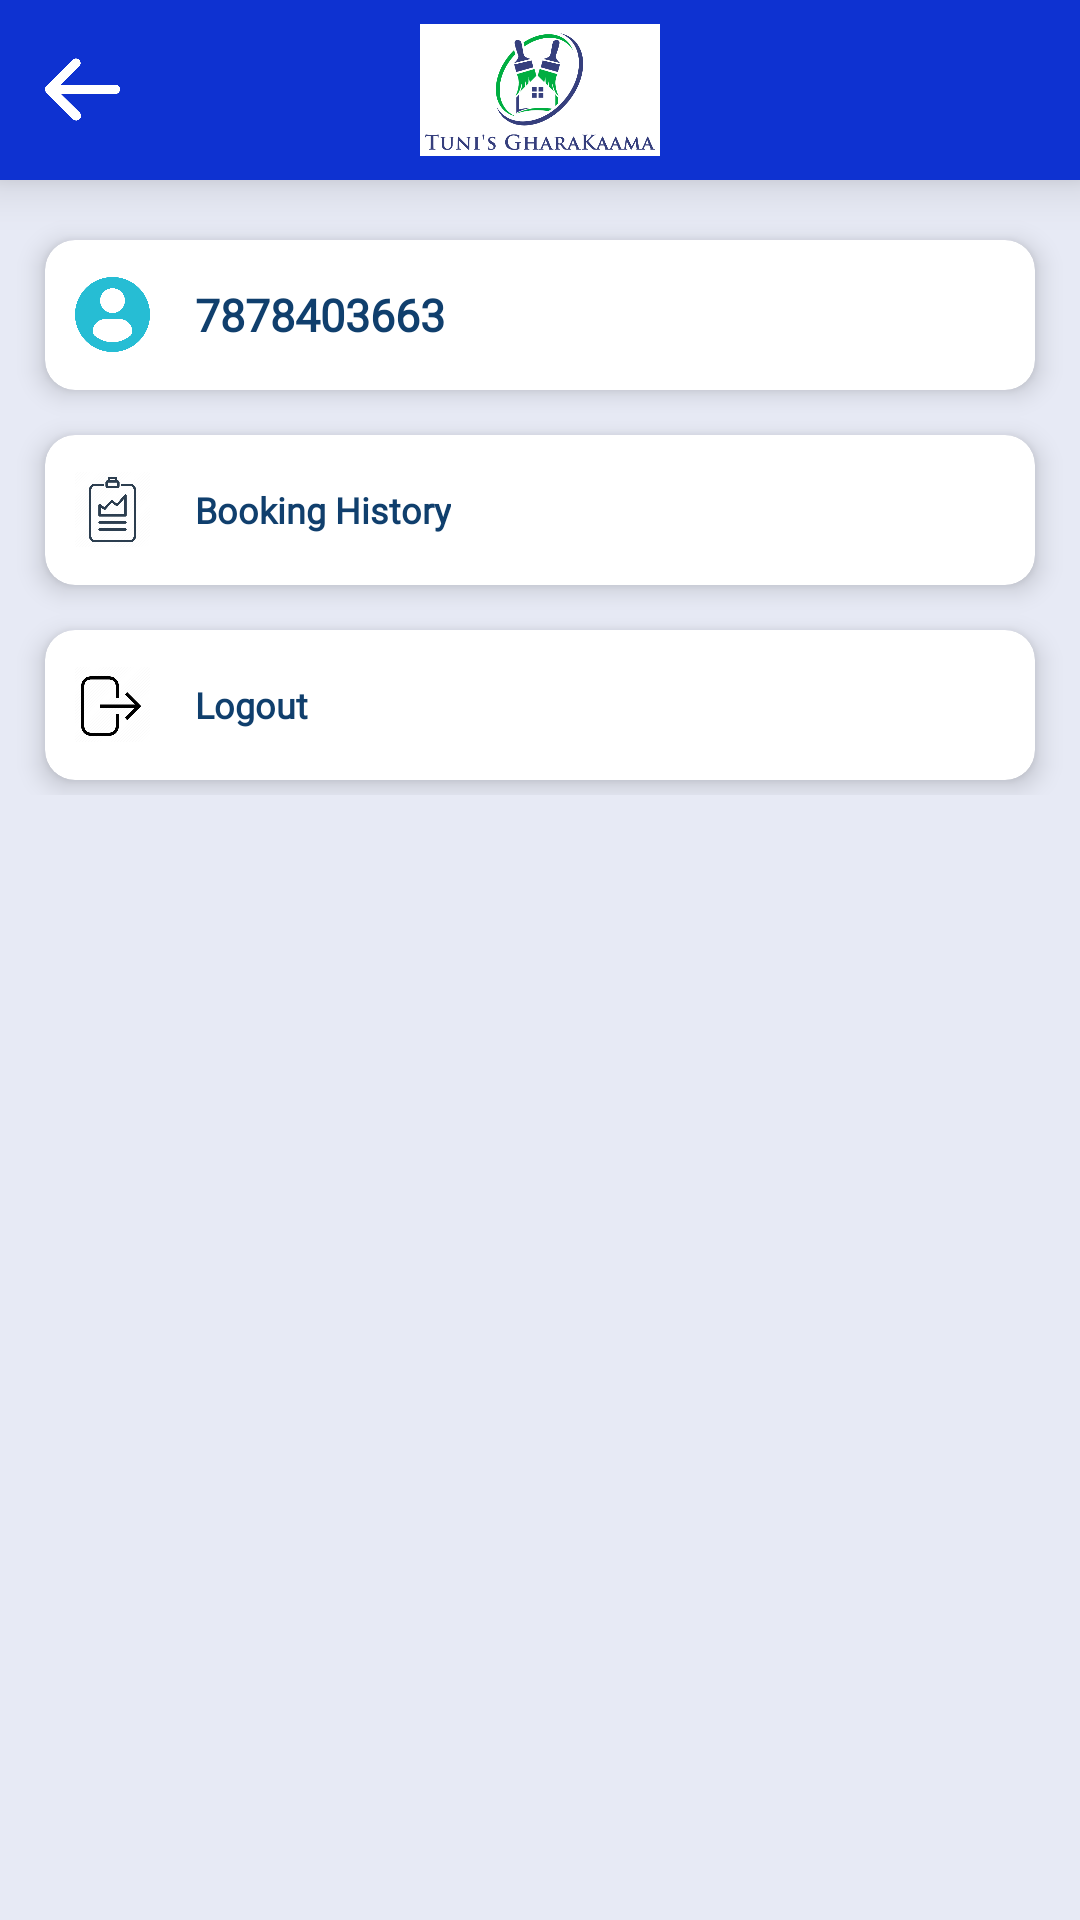

Named icons in this screenshot (1080 x 1920) and their centers, (x=x, y=y):
arrow left: (x=82, y=89)
profile user: (x=112, y=314)
